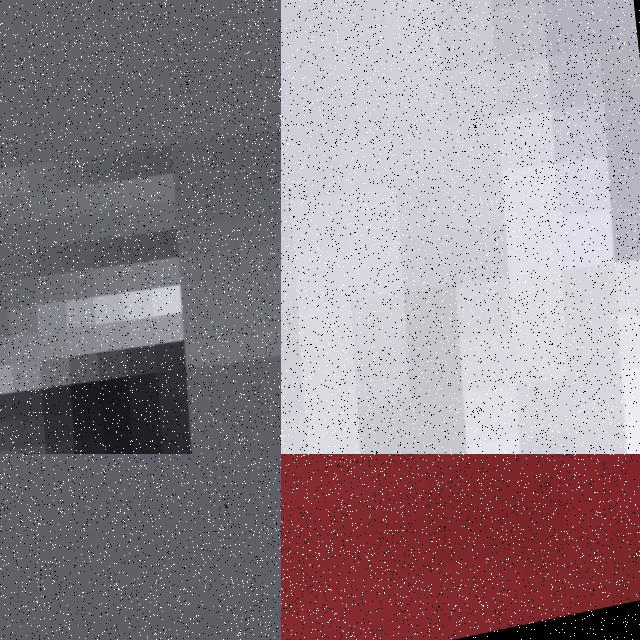0: (0, 0, 281, 454)
drone: (281, 0, 640, 454), (281, 454, 640, 640)
